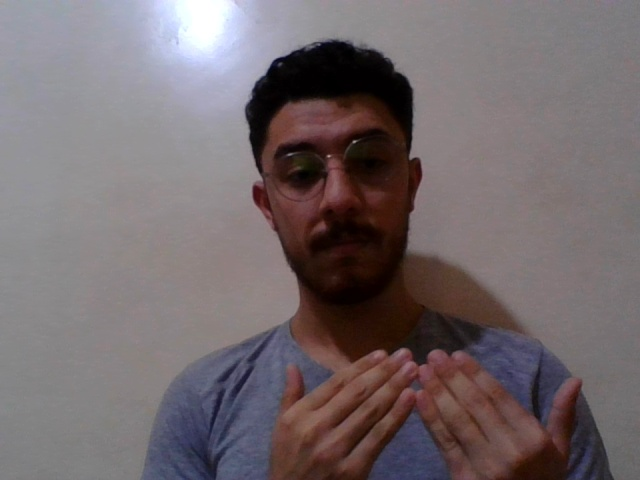Thank You: (252, 325, 585, 480)
